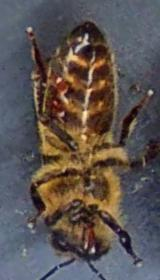varroa_mite: (38, 68, 78, 98)
